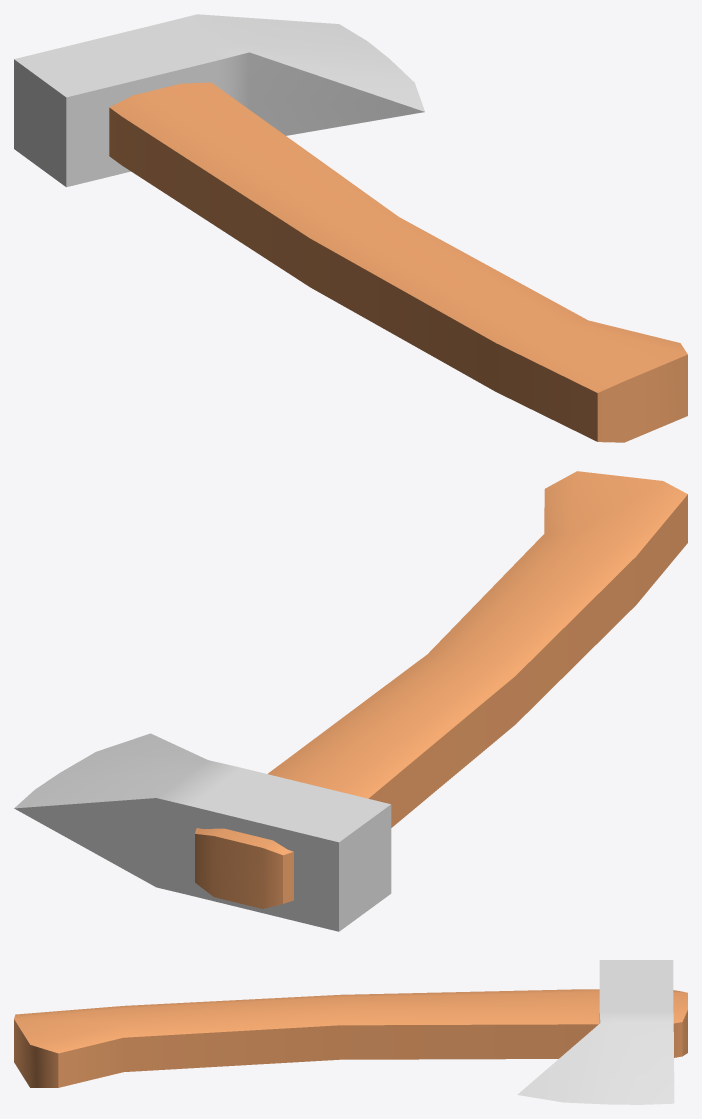
The model's file is Axe_06.fbx.
3 views of the same model, one above another, from view 1: azimuth 30°, elevation 25°; view 2: azimuth 150°, elevation 25°; view 3: azimuth 270°, elevation 25° (orthographic). The views are drawn at different scales.
Visible parts, largest first — view 1: Axe_06; view 2: Axe_06; view 3: Axe_06.
Boxes of the visible parts, x1,y1,x2,y2 form: Axe_06: (14,14,687,442); Axe_06: (14,471,687,931); Axe_06: (14,960,687,1104).
Size of the model in its own units: 3.84 by 1 by 9.65.
